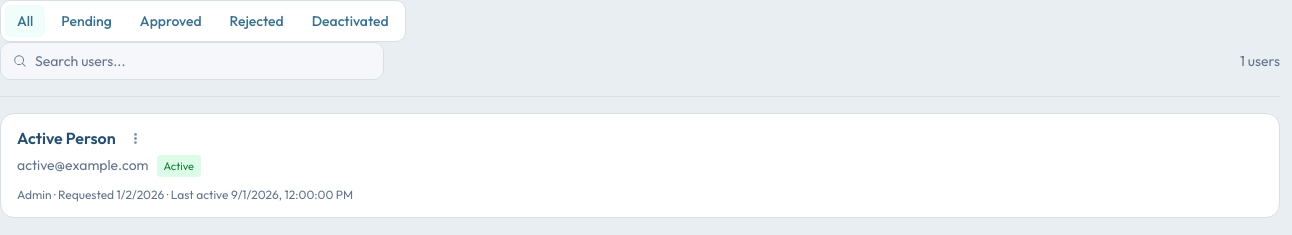
UsersPage › shows Resend approval email/Remove user for an active user's menu, but not Approve
Press the mouse on the button named "Actions for Active Person" at (136, 138), box [124,126,148,150]
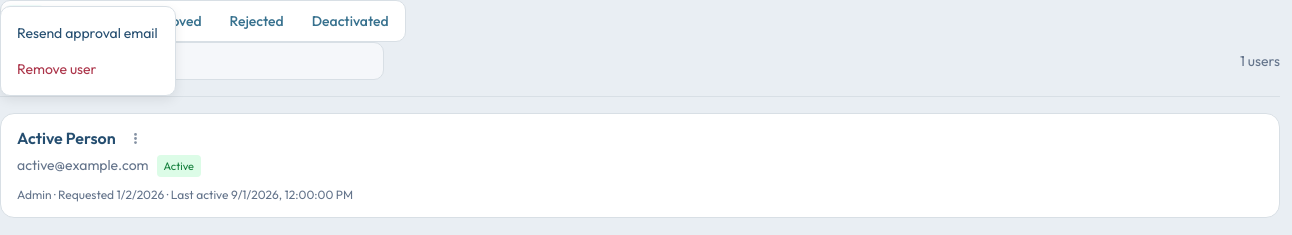
expect the menu is shown: met, box [0,6,176,96]
expect the menu item "Resend approval email" is shown: met, box [17,24,158,42]
expect the menu item "Remove user" is shown: met, box [17,60,96,78]
